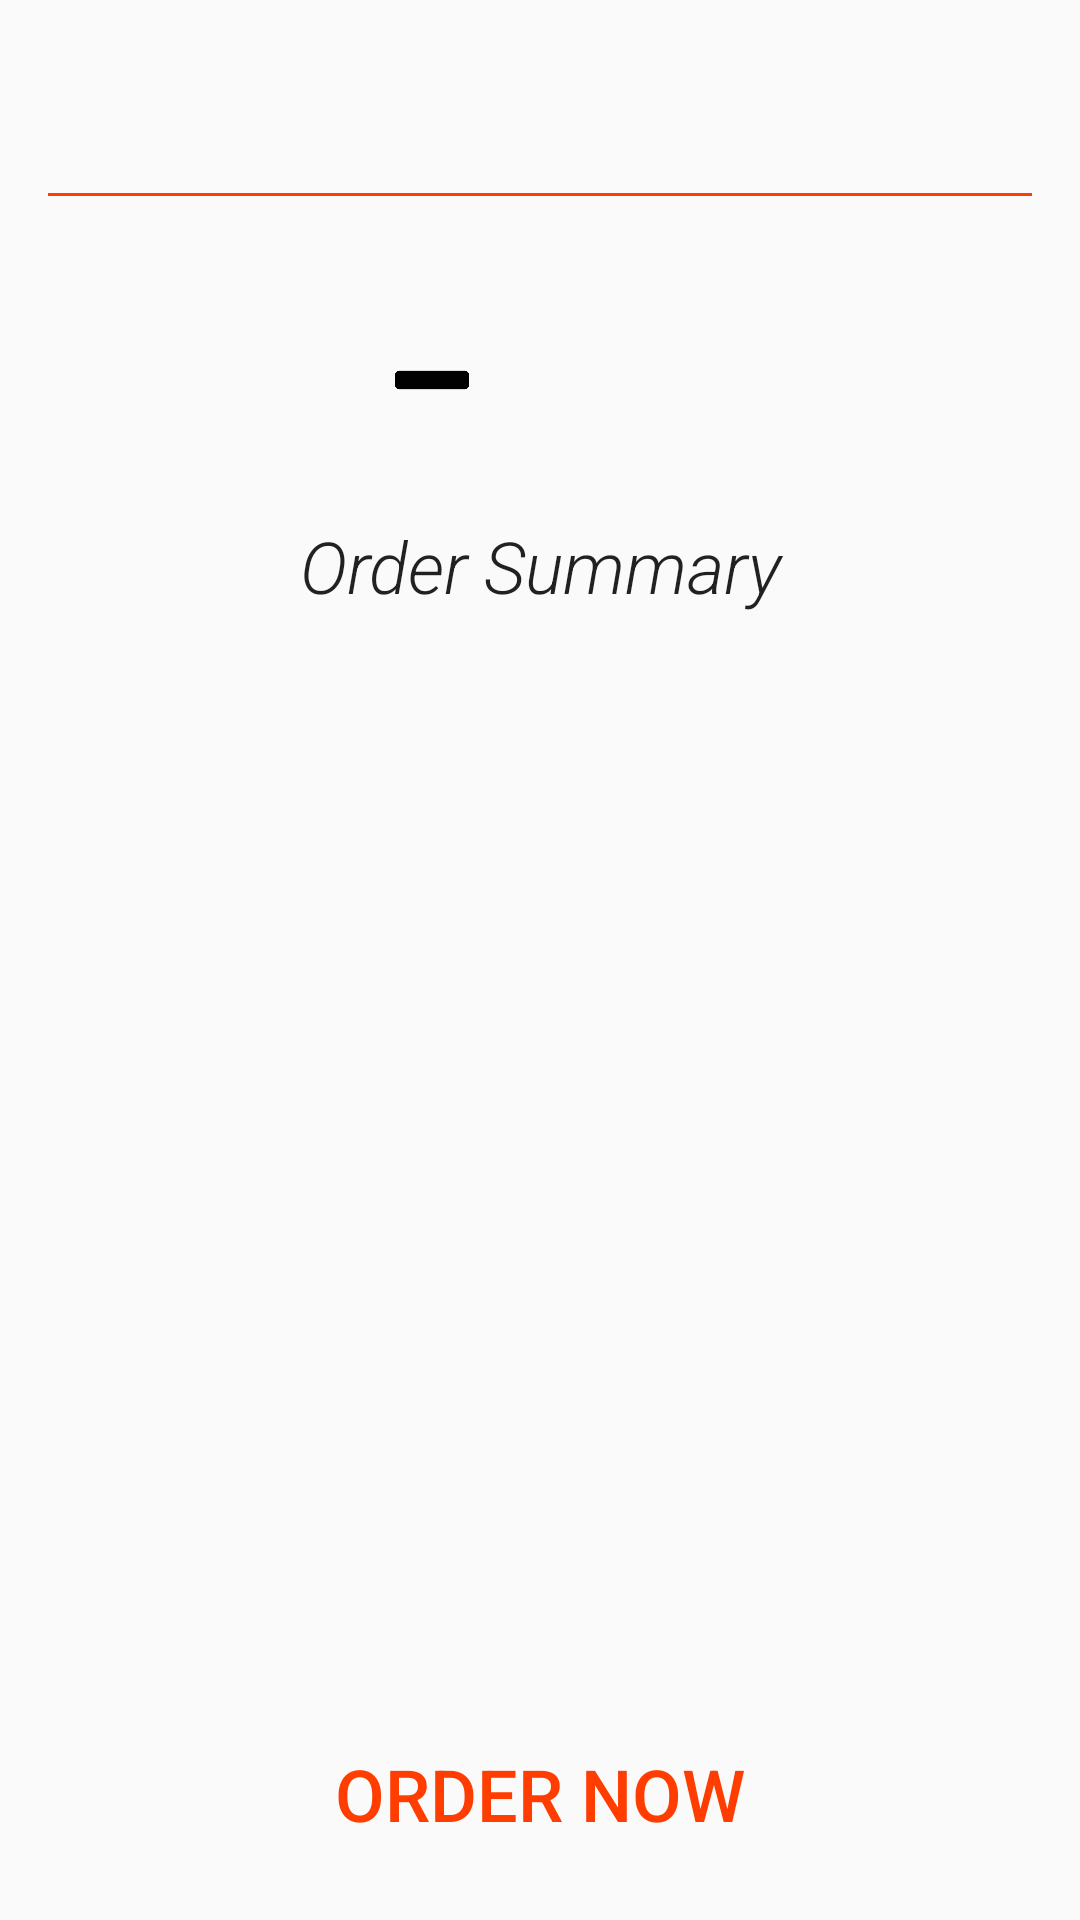

Icon bounding boxes for this 1080px×1920px phone screenshot, format (x1, y1, x2, y2):
minus: (395, 370, 469, 390)
